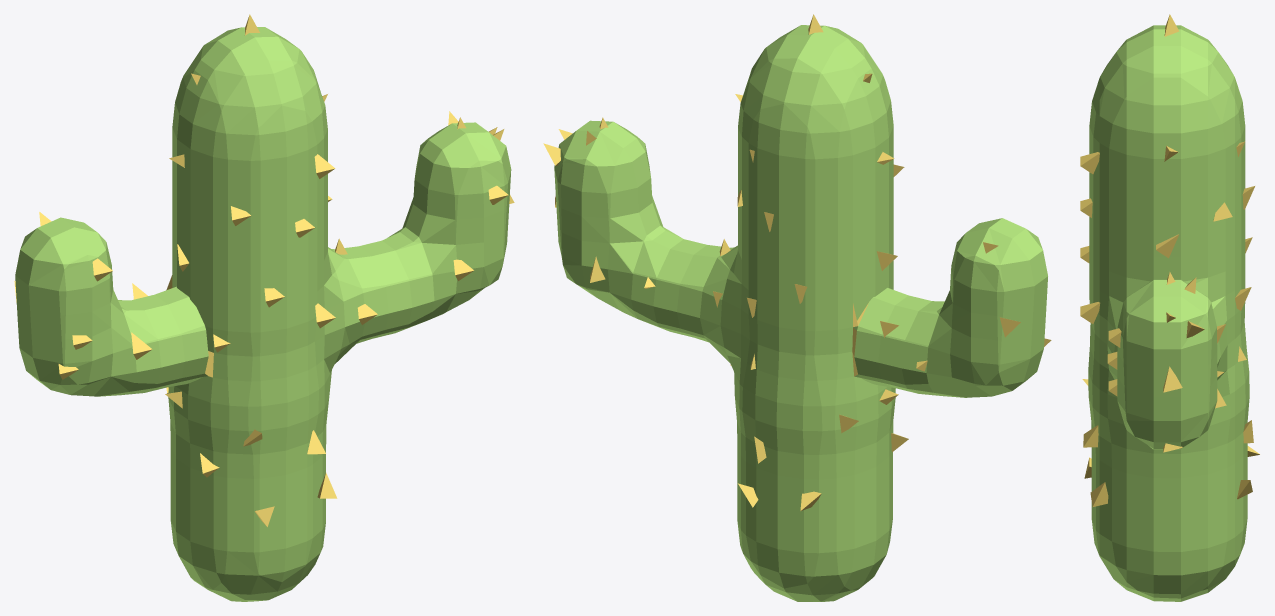
The model's file is cactus2.fbx.
3 views of the same model, side by side, from view 1: azimuth 30°, elevation 25°; view 2: azimuth 150°, elevation 25°; view 3: azimuth 270°, elevation 25° (orthographic).
Visible parts, largest first — view 1: Cone; view 2: Cone; view 3: Cone.
Part boxes in pixels (<box>): Cone: <box>14,14,514,601</box>; Cone: <box>543,14,1051,601</box>; Cone: <box>1080,14,1259,601</box>.
Bounding box in the file's own units: 835 × 947 × 266.
